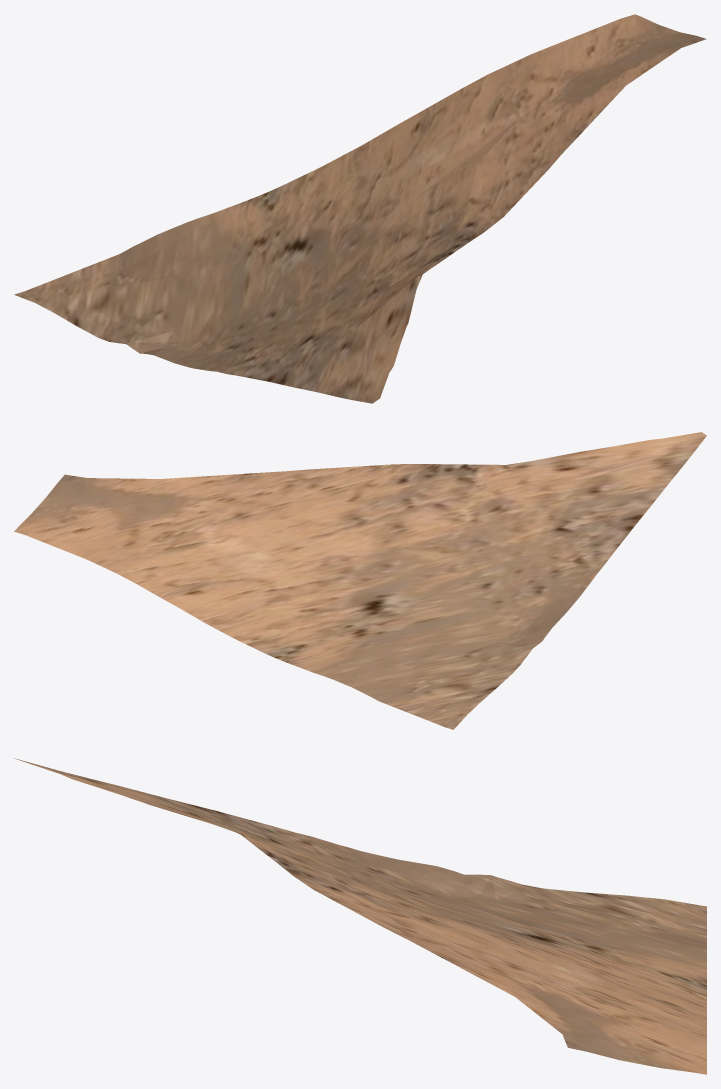
3 views of the same model, one above another, from view 1: azimuth 30°, elevation 25°; view 2: azimuth 150°, elevation 25°; view 3: azimuth 270°, elevation 25° (orthographic). The views are drawn at different scales.
Size of the model in its own units: 1.04 by 0.2519 by 1.04.
2 materials, 2 textured.
